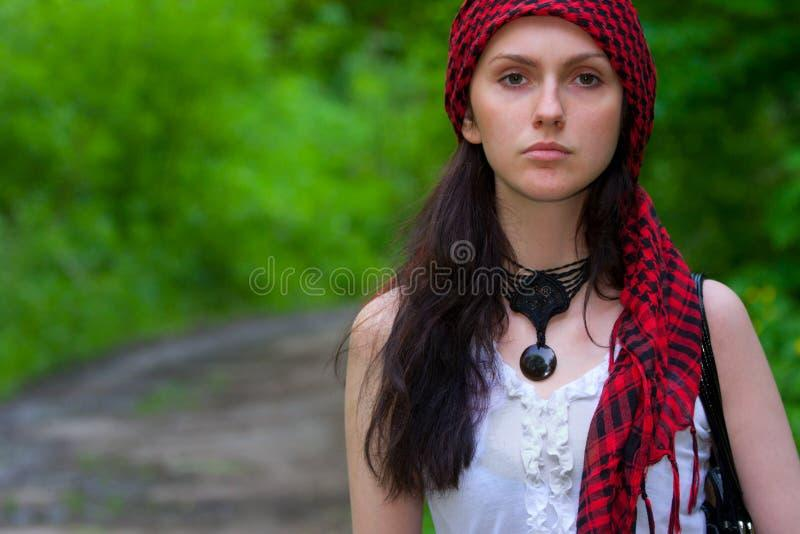cap: (434, 0, 670, 159)
